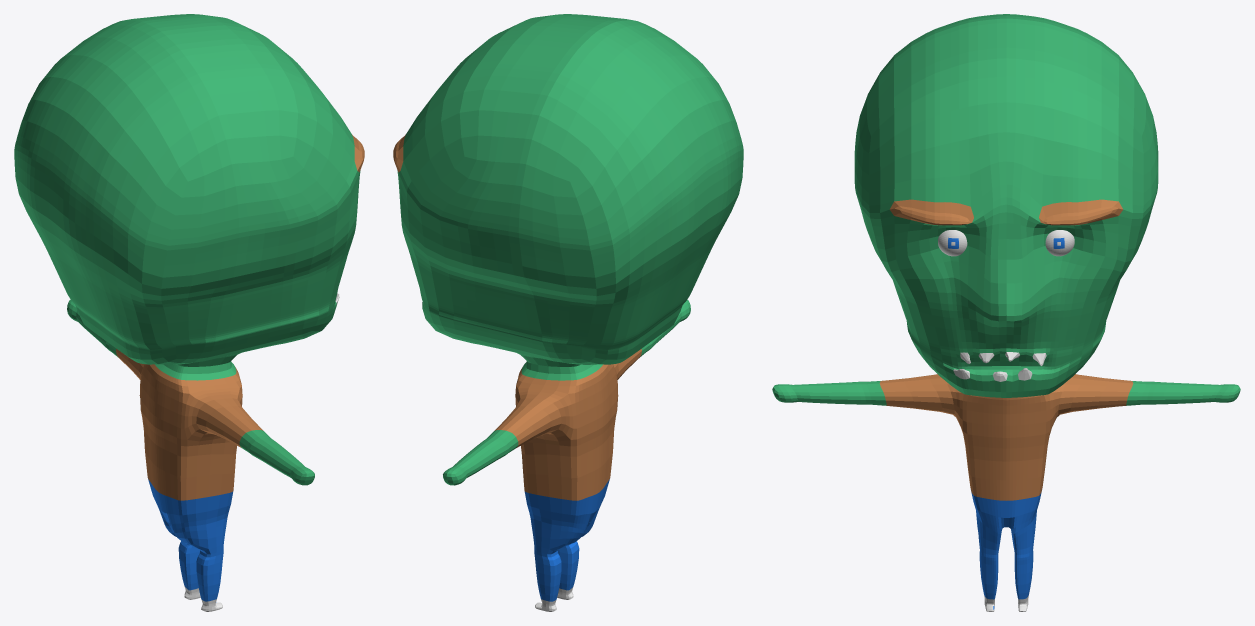
The model's file is ColouredZombie.fbx.
3 views of the same model, side by side, from view 1: azimuth 30°, elevation 25°; view 2: azimuth 150°, elevation 25°; view 3: azimuth 270°, elevation 25° (orthographic). The views are drawn at different scales.
Visible parts, largest first — view 1: Cube; view 2: Cube; view 3: Cube.
Part boxes in pixels (x1,y1,x2,y2): Cube: (14,14,364,611); Cube: (393,14,743,611); Cube: (772,14,1240,611).
Bounding box in the file's own units: 226 × 414 × 309.
